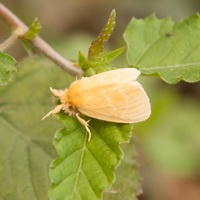insect: (42, 68, 150, 132)
